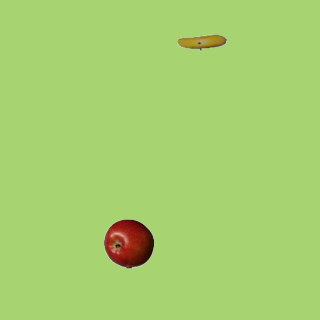Apple Braeburn: (103, 218, 153, 268)
Banana: (176, 17, 226, 67)
